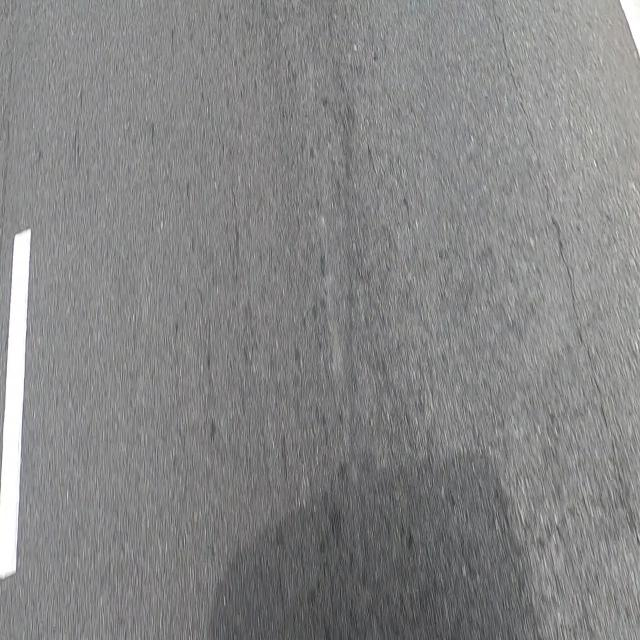Retak-Memanjang: (489, 2, 640, 549)
